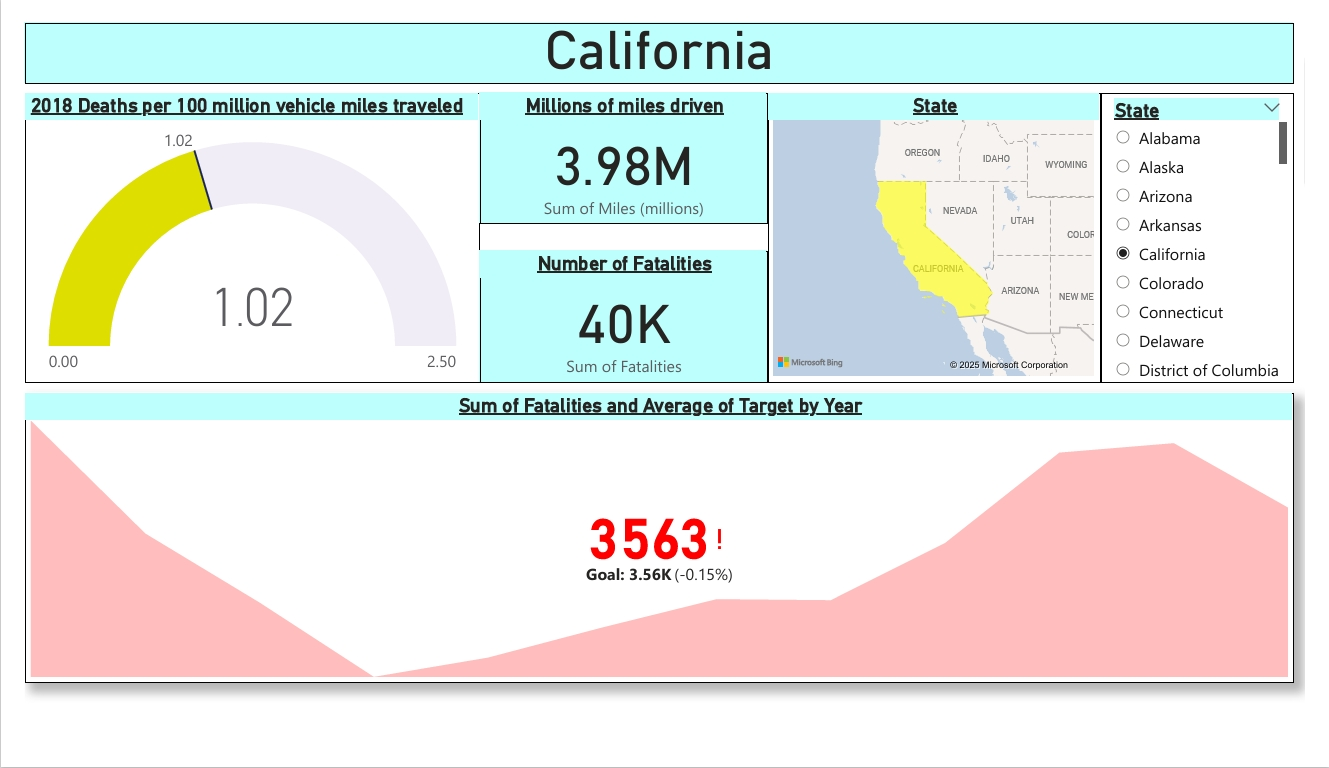

The page's visual inventory and layout, read from the dashboard file:
{"tool":"powerbi","page":{"name":"Dashboard for road safety","canvas":[1280,720],"ordinal":0},"visuals":[{"type":"slicer","fields":{"Values":["PA - Driving Safety.State"]},"box":[1075.7,69.7,193.5,289.8],"z":0},{"type":"card","fields":{"Values":["Min(PA - Driving Safety.State)"]},"box":[0,0,1269.2,60.9],"z":1000},{"type":"gauge","title":"2018 Deaths per 100 million vehicle miles traveled","fields":{"Y":["Sum(PA - Driving Safety.2018 Deaths per 100 million vehicle miles traveled)"]},"box":[0,69.7,454.8,289.8],"z":2000},{"type":"filledMap","fields":{"Category":["PA - Driving Safety.State"]},"box":[742.7,69.7,333,289.8],"z":3000},{"type":"kpi","fields":{"Indicator":["Sum(PA - Driving Safety.Fatalities)"],"TrendLine":["PA - Driving Safety.Year"],"Goal":["Avg(PA - Driving Safety.Target)"]},"box":[0,370.3,1269.2,289.8],"z":4000},{"type":"card","title":"Millions of miles driven","fields":{"Values":["Sum(PA - Driving Safety.Miles (millions))"]},"box":[454.8,69.7,287.8,131.6],"z":5000},{"type":"card","title":"Number of Fatalities","fields":{"Values":["Sum(PA - Driving Safety.Fatalities)"]},"box":[454.8,227.9,287.8,131.6],"z":6000}]}

Visuals, with their boxes in screenshot pixels (x1, y1, x2, y2), scaled from the page's 1280x720 canvas onto the 1329x768 screenshot:
slicer - PA - Driving Safety.State: 1117/74/1318/383
card - Min(PA - Driving Safety.State): 0/0/1318/65
"2018 Deaths per 100 million vehicle miles traveled" gauge: 0/74/472/383
filledMap - PA - Driving Safety.State: 771/74/1117/383
kpi - Sum(PA - Driving Safety.Fatalities) x PA - Driving Safety.Year: 0/395/1318/704
"Millions of miles driven" card: 472/74/771/215
"Number of Fatalities" card: 472/243/771/383
